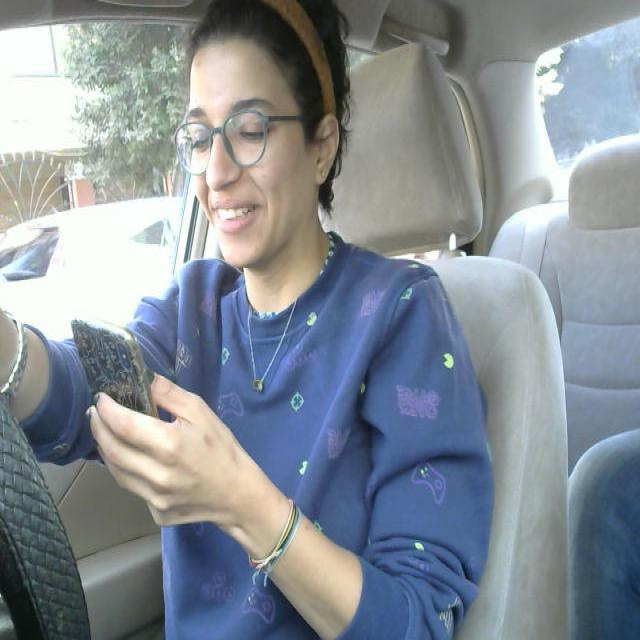mobile use: (66, 306, 152, 416)
